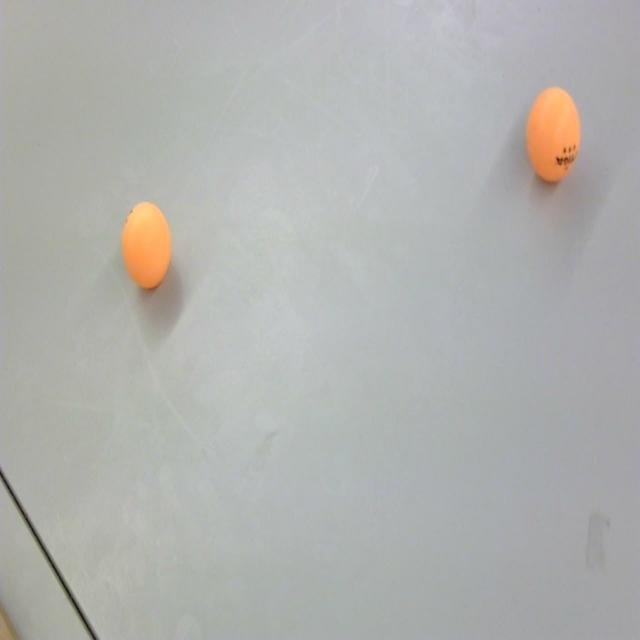ball: (526, 83, 585, 188), (119, 200, 175, 296)
